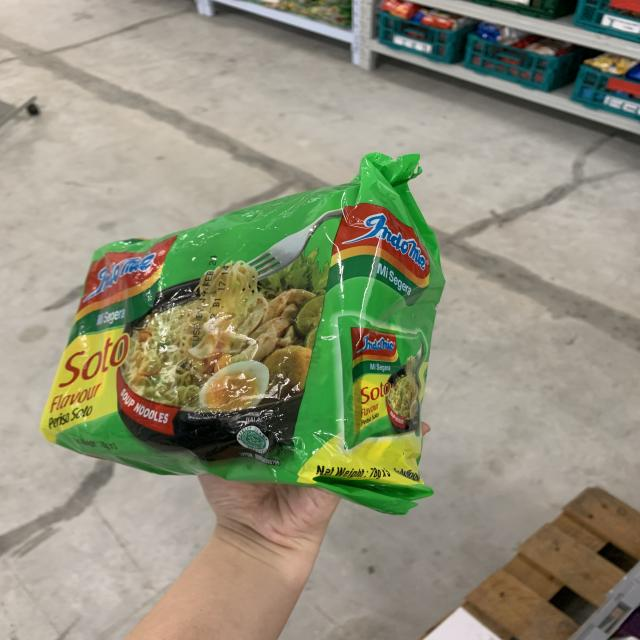object_name: (78, 214, 416, 483)
